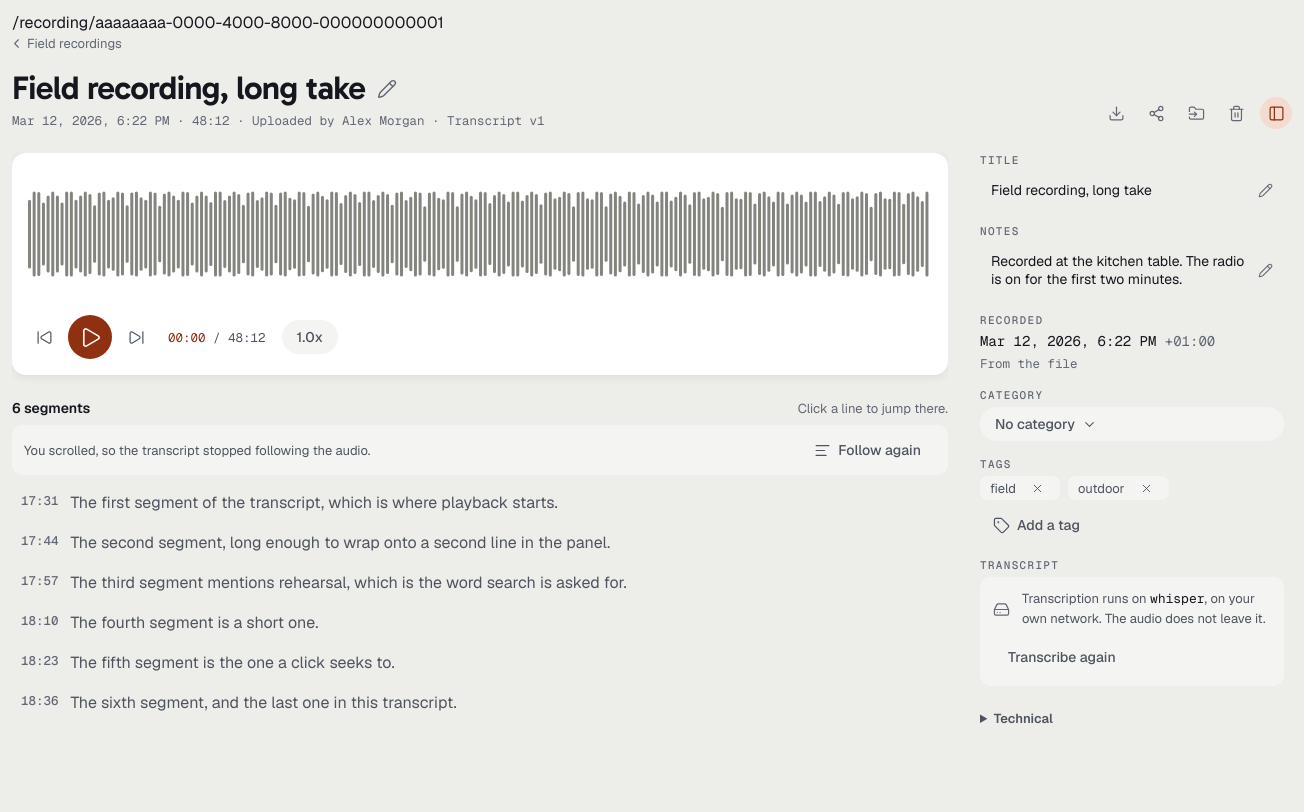
Test: following the audio › puts the band away when following is taken up again
Expected: the text "The first segment of the transcript" is shown, [70,492,558,513]
Click the button "Follow again" at (869, 450), box [801,433,936,467]
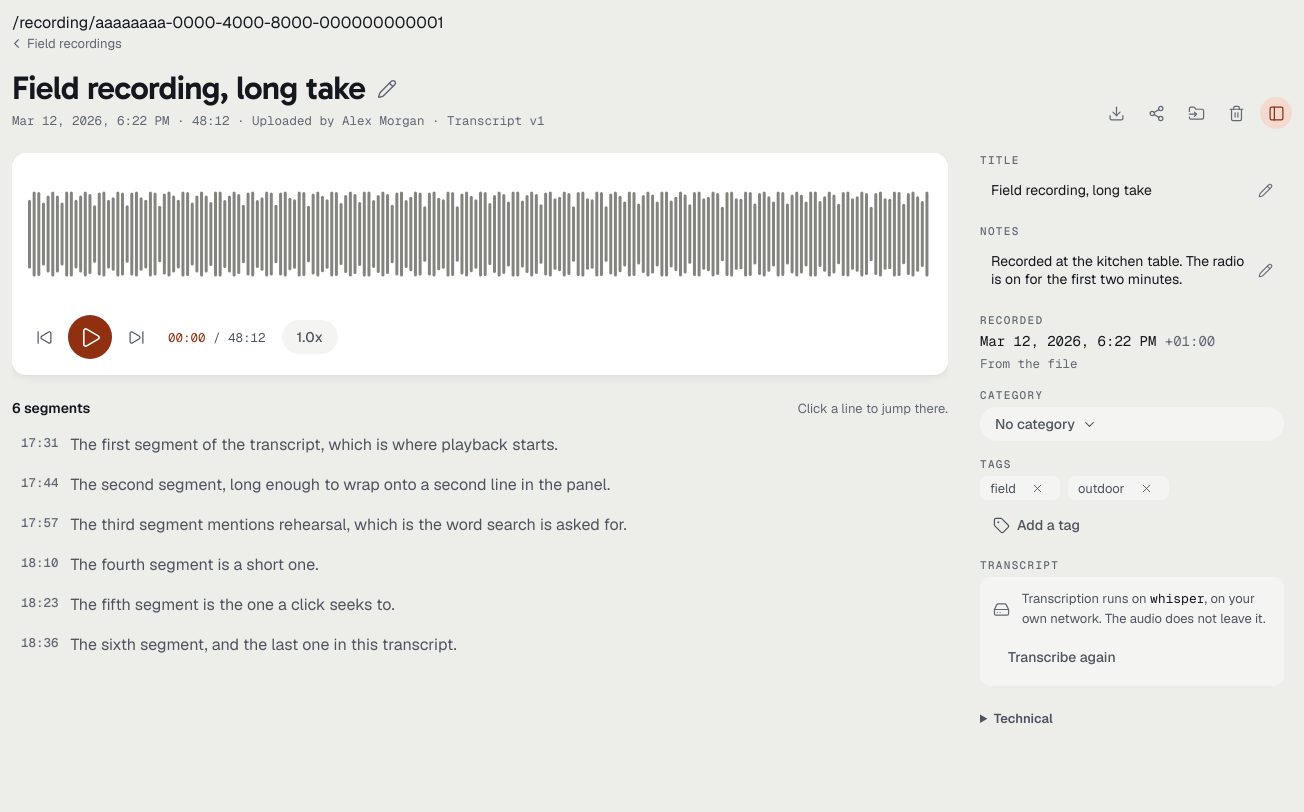
Expected: the text "stopped following the audio" is gone
